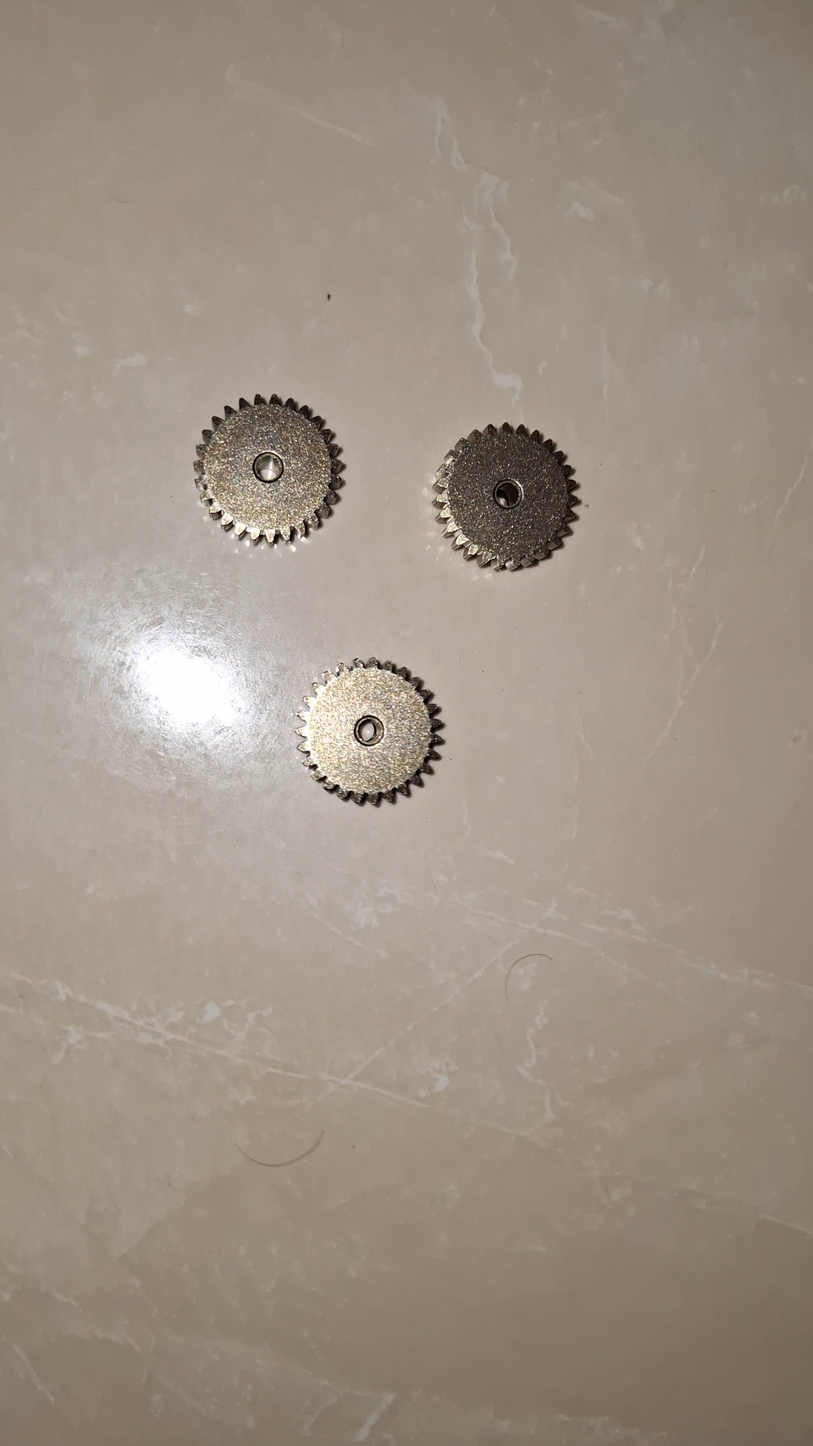spur gear: (195, 394, 343, 542), (297, 658, 441, 803), (435, 423, 576, 569)
